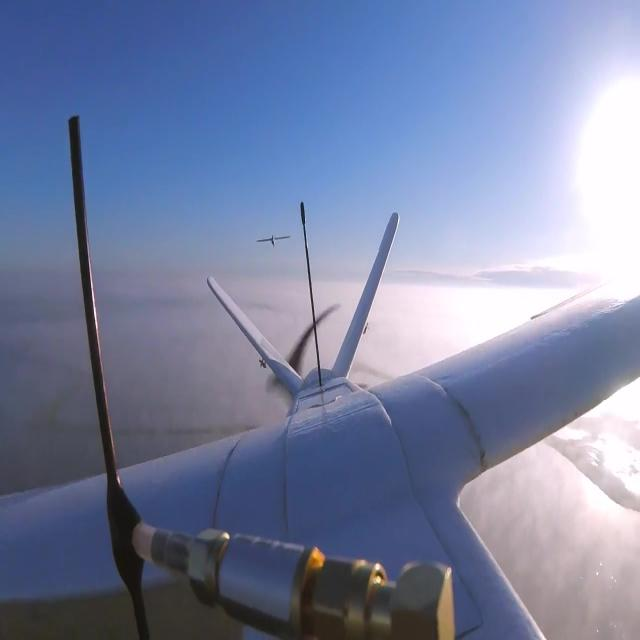iha: (256, 235, 291, 249)
